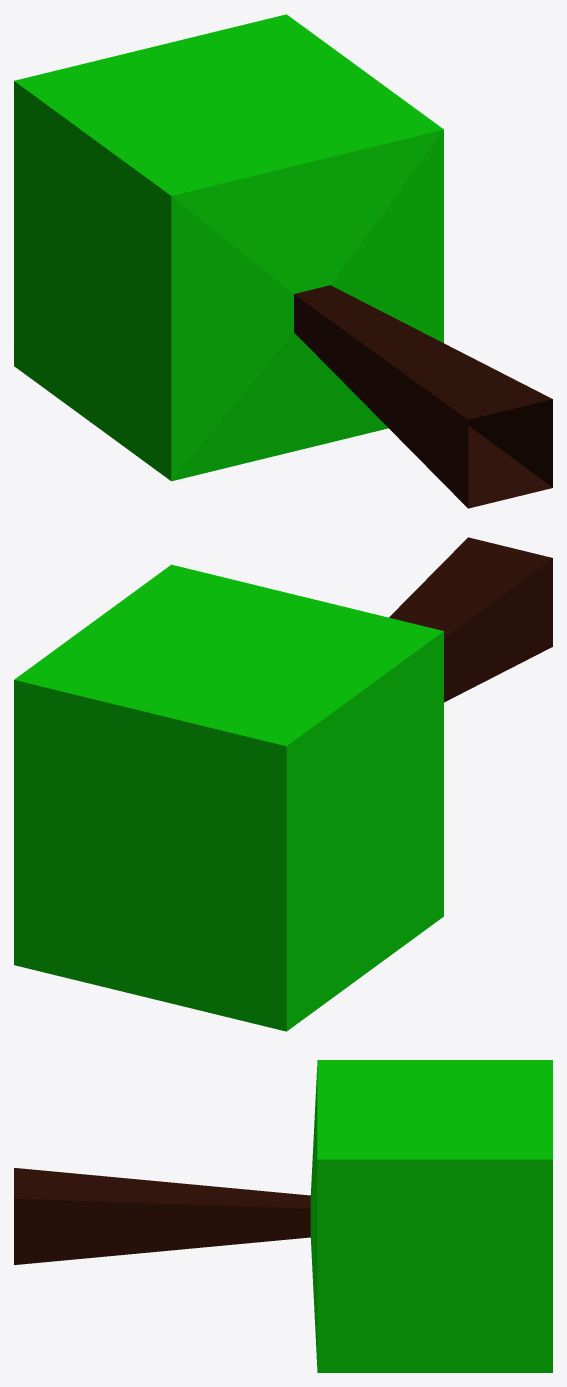
File: tree.obj
The picture shows the model from 3 angles, top to bottom: view 1: azimuth 30°, elevation 25°; view 2: azimuth 150°, elevation 25°; view 3: azimuth 270°, elevation 25°; orthographic projection. The views are drawn at different scales.
Visible parts, largest first — view 1: Cube; view 2: Cube; view 3: Cube.
Part boxes in pixels (x1,y1,x2,y2): Cube: [14, 14, 552, 508]; Cube: [14, 537, 552, 1031]; Cube: [14, 1060, 552, 1372].
Bounding box in the file's own units: 3.86 × 3.86 × 8.83.
